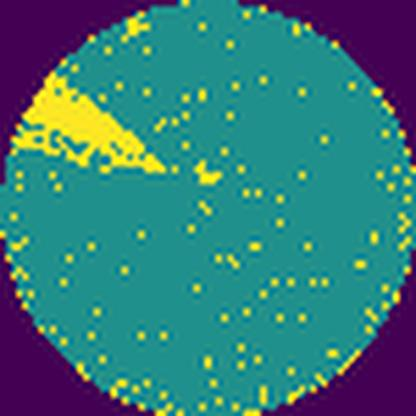Loc: (10, 70, 172, 174)
